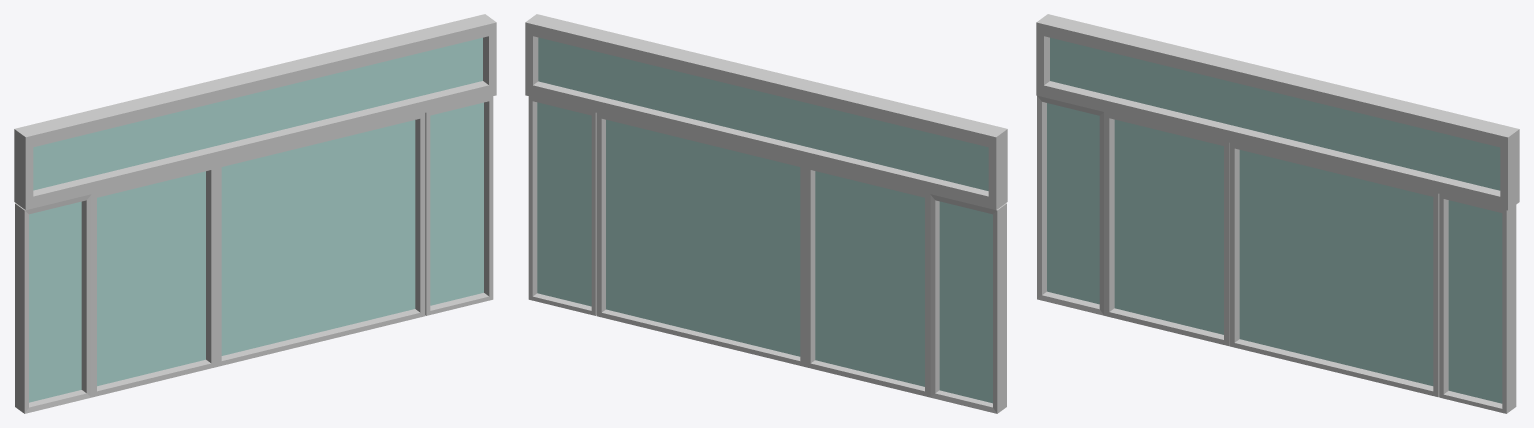
File: puerta entrada.fbx
The picture shows the model from 3 angles, left to right: view 1: azimuth 30°, elevation 25°; view 2: azimuth 150°, elevation 25°; view 3: azimuth 330°, elevation 25°; orthographic projection.
Visible parts, largest first — view 1: Plane.039, entrada, Plane.040, Plane.001, Plane.038, Plane.037, puerta der, puerta izq; view 2: Plane.039, entrada, Plane.040, Plane.001, Plane.038, Plane.037, puerta der, puerta izq; view 3: Plane.039, entrada, Plane.040, Plane.001, Plane.038, Plane.037, puerta der, puerta izq.
Boxes of the visible parts, box(x1,y1,x2,y2) form: Plane.039: box(221, 120, 415, 355); entrada: box(14, 14, 496, 413); Plane.040: box(97, 171, 205, 386); Plane.001: box(33, 37, 482, 190); Plane.038: box(430, 102, 483, 305); Plane.037: box(29, 201, 81, 402); puerta der: box(216, 113, 425, 366); puerta izq: box(91, 163, 216, 397); Plane.039: box(606, 119, 800, 356); entrada: box(525, 14, 1007, 413); Plane.040: box(815, 171, 924, 386); Plane.001: box(538, 37, 988, 190); Plane.038: box(537, 102, 591, 306); Plane.037: box(939, 201, 992, 403); puerta der: box(596, 113, 805, 366); puerta izq: box(805, 163, 930, 397); Plane.039: box(1239, 150, 1433, 385); entrada: box(1036, 14, 1519, 413); Plane.040: box(1114, 119, 1223, 334); Plane.001: box(1050, 37, 1500, 190); Plane.038: box(1448, 200, 1502, 403); Plane.037: box(1047, 103, 1099, 304); puerta der: box(1229, 143, 1439, 397); puerta izq: box(1104, 112, 1229, 346).
Bounding box in the file's own units: 10.8 × 6.08 × 0.4574.
